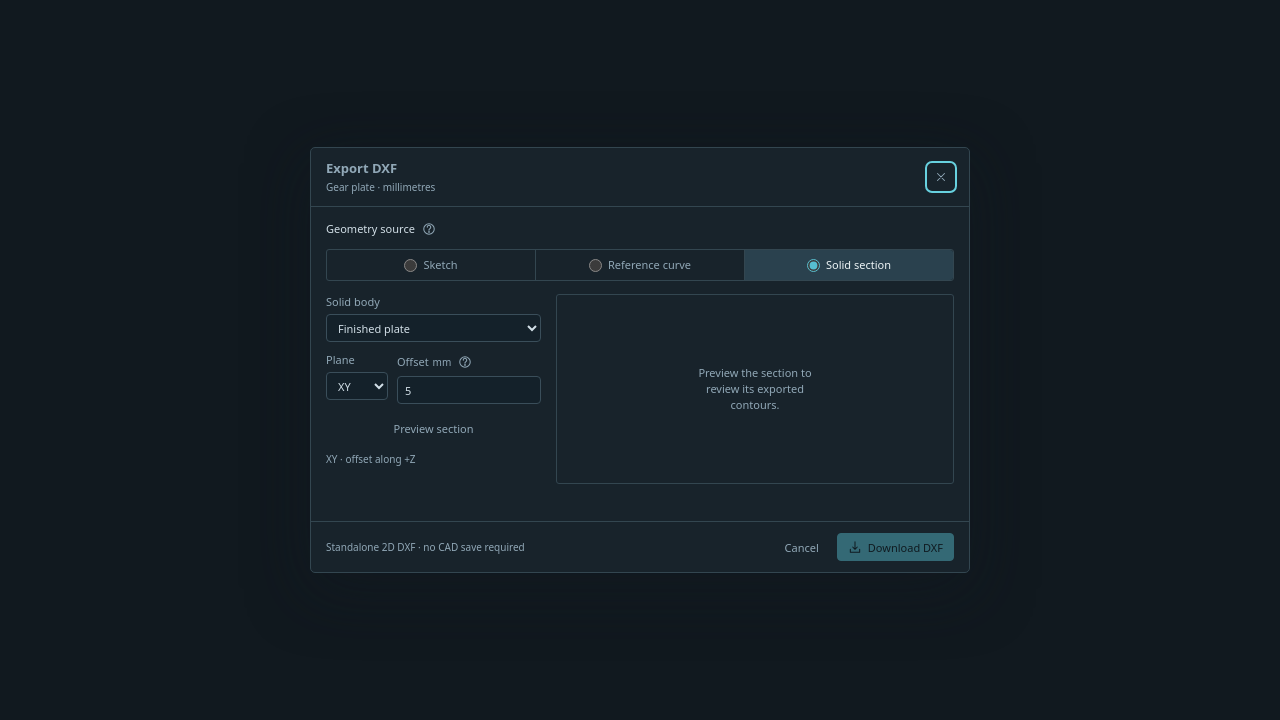
Scenario: aborts an outstanding section on stale and never publishes its late preview
Click the button "Preview section": {"x": 434, "y": 428} 326,414 -> 541,442
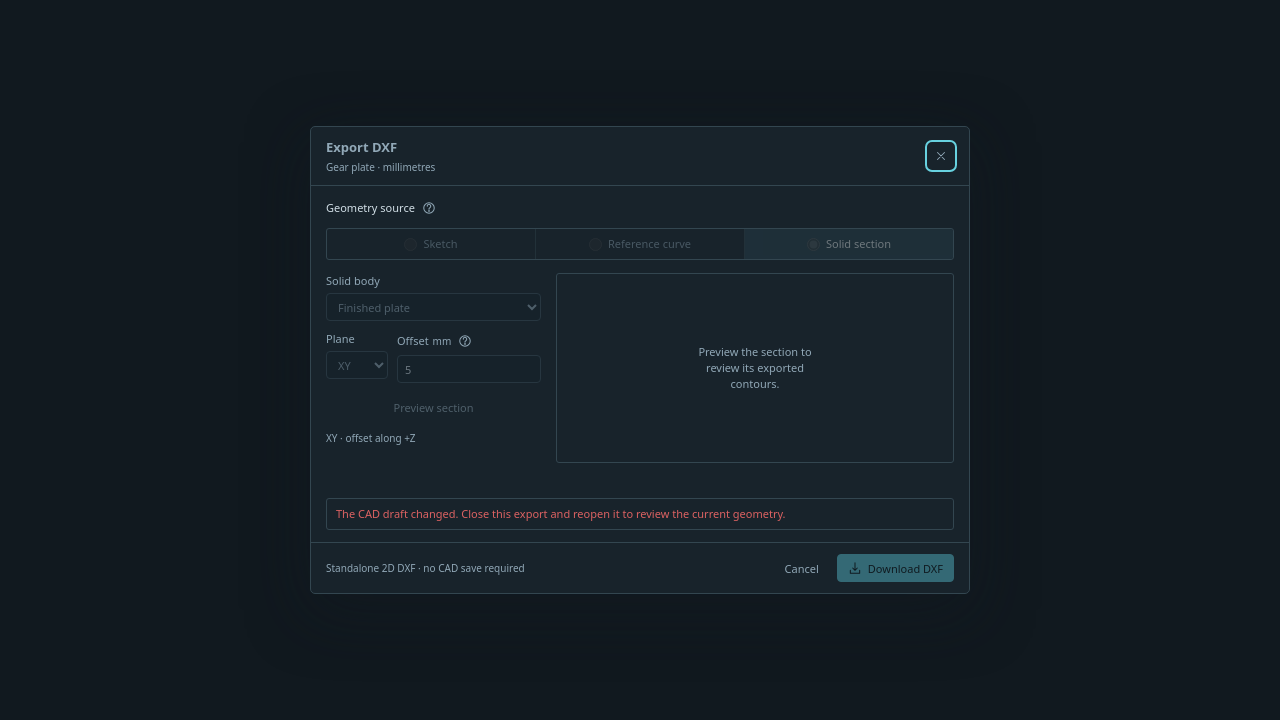
Expected: the button "Download DXF" is disabled, 837,554 -> 954,582
Now the 2nd message shows "draft changed", box 336,506 -> 786,521
